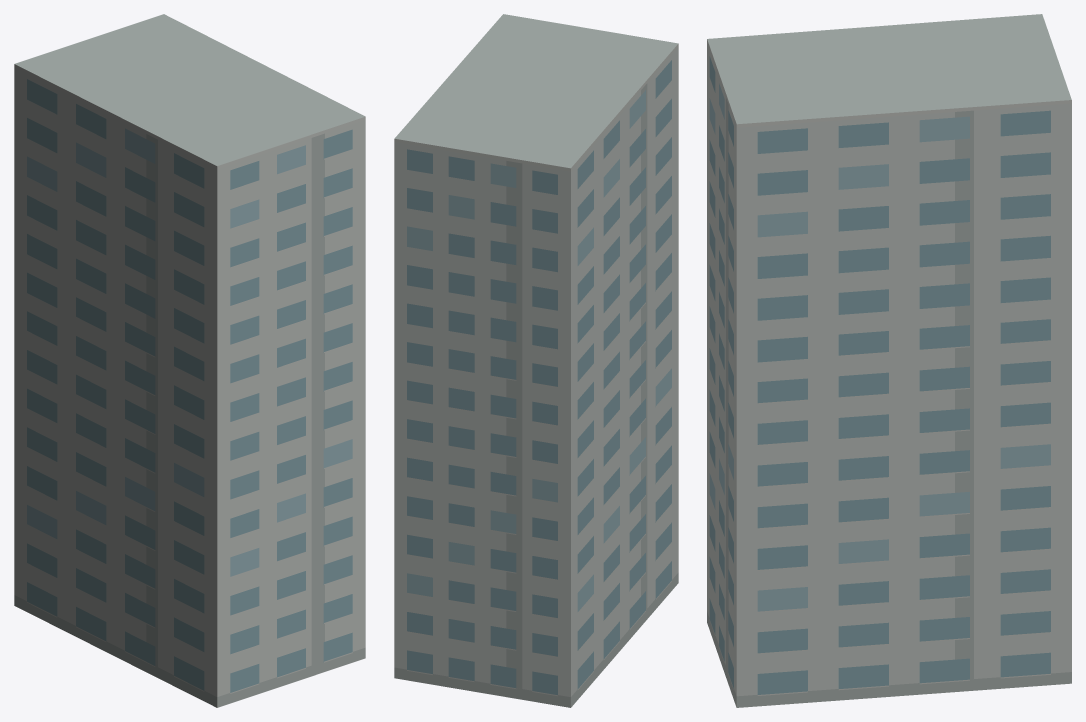
Rendered from residential-785ab9e2-a3e1-4834-9cb3-ac4c3f512e6d.glb.
3 views of the same model, side by side, from view 1: azimuth 30°, elevation 25°; view 2: azimuth 150°, elevation 25°; view 3: azimuth 270°, elevation 25° (orthographic). The views are drawn at different scales.
Parts seen in each view (by area): view 1: residential-785ab9e2-a3e1-4834-9cb3-ac4c3f512e6d.tmp; view 2: residential-785ab9e2-a3e1-4834-9cb3-ac4c3f512e6d.tmp; view 3: residential-785ab9e2-a3e1-4834-9cb3-ac4c3f512e6d.tmp.
Boxes of the visible parts, x1,y1,x2,y2 form: residential-785ab9e2-a3e1-4834-9cb3-ac4c3f512e6d.tmp: (14, 14, 365, 707); residential-785ab9e2-a3e1-4834-9cb3-ac4c3f512e6d.tmp: (394, 14, 678, 707); residential-785ab9e2-a3e1-4834-9cb3-ac4c3f512e6d.tmp: (707, 14, 1071, 707).
Bounding box in the file's own units: 16.21 × 40 × 22.67.
